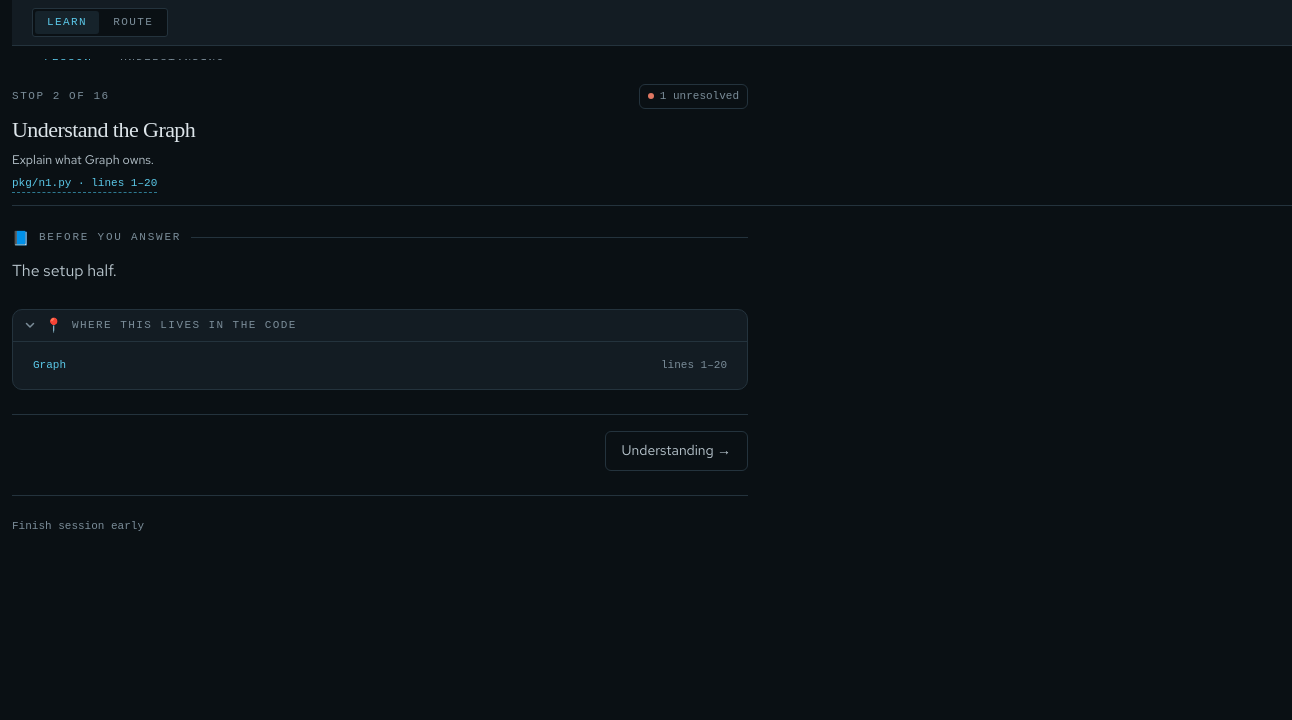
Test case: each surface offers the other at its foot › from Lesson, the foot of the page goes to Understanding
The width and height of the screenshot is (1292, 720).
Expected: the text "The setup half." is shown, [12,260,117,281]
Click the button "Understanding →": click(676, 451) [604,431,748,471]
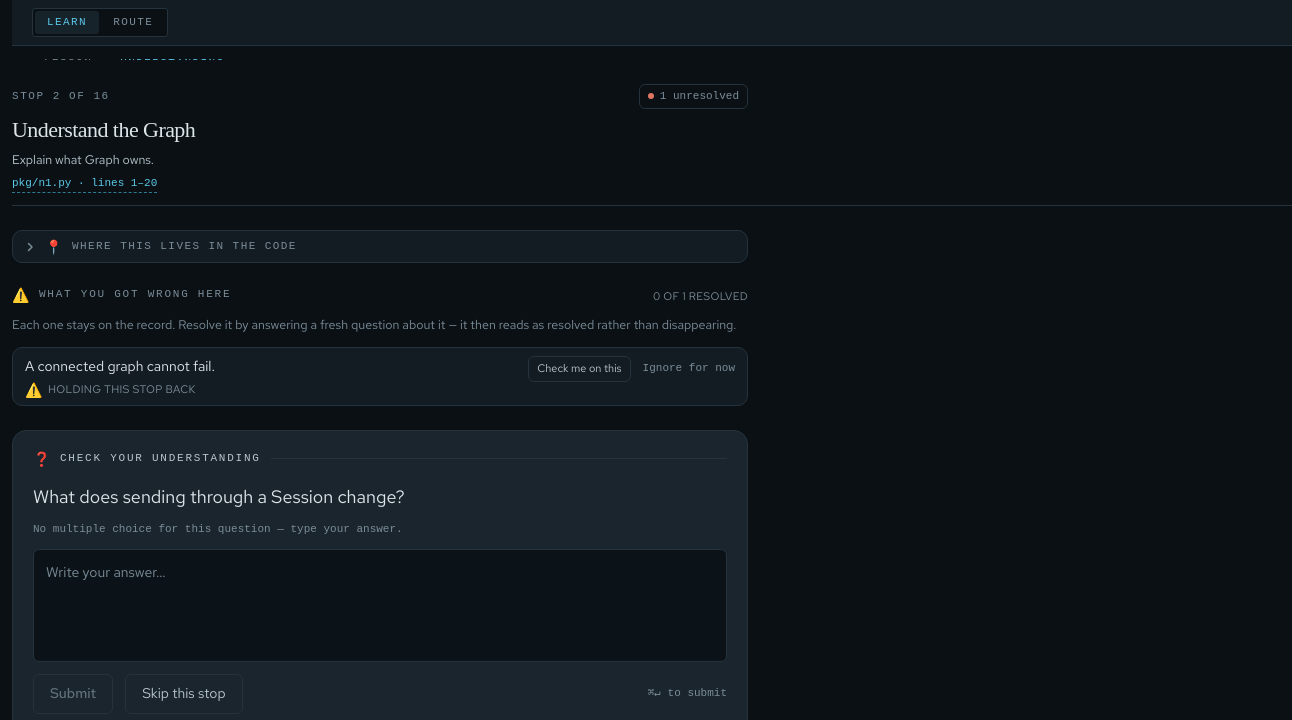
Expected: the button "Understanding" is shown, [108,46,237,84]
Expected: the number of text boxes with placeholder "Write your answer…" is 1, [33,549,727,662]
